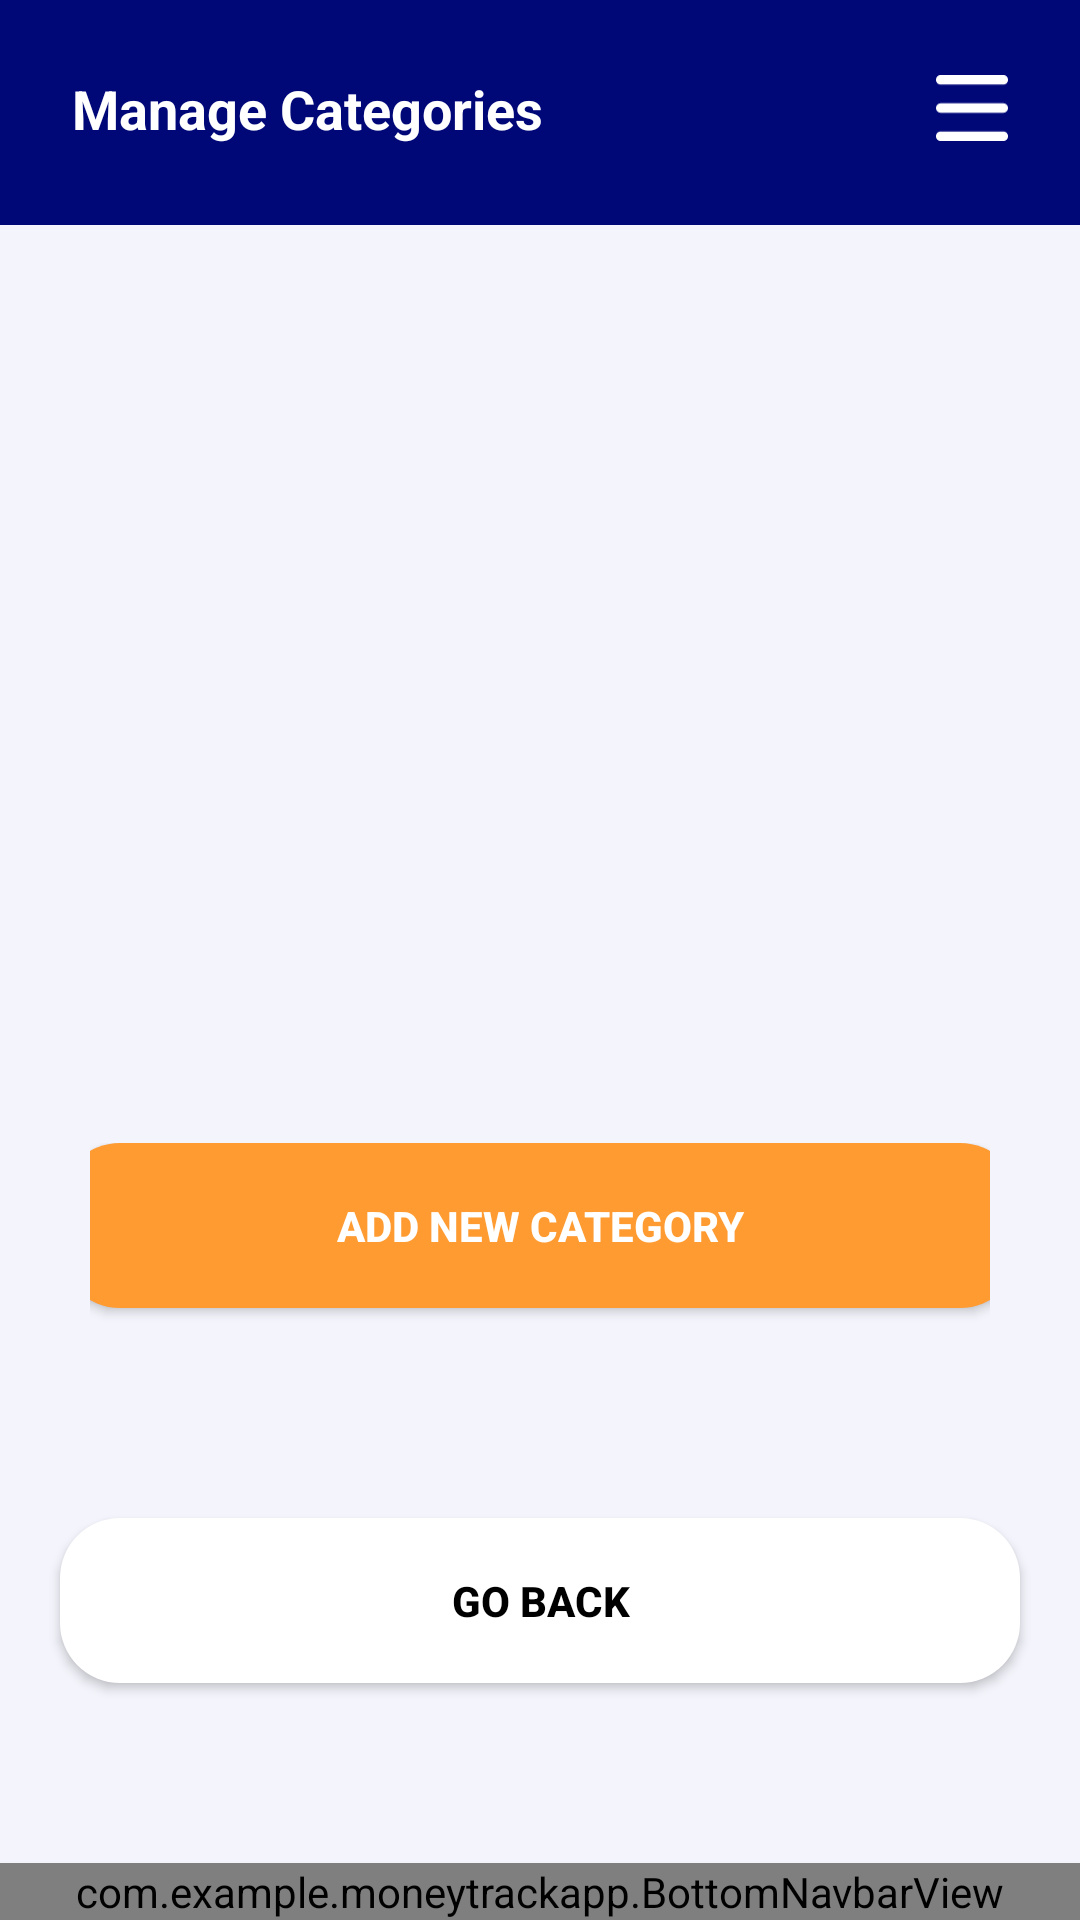

Where icons sit on this 1080×1920 app screen, as (x1, y1, x2, y2):
Menu: (936, 75, 1008, 141)
